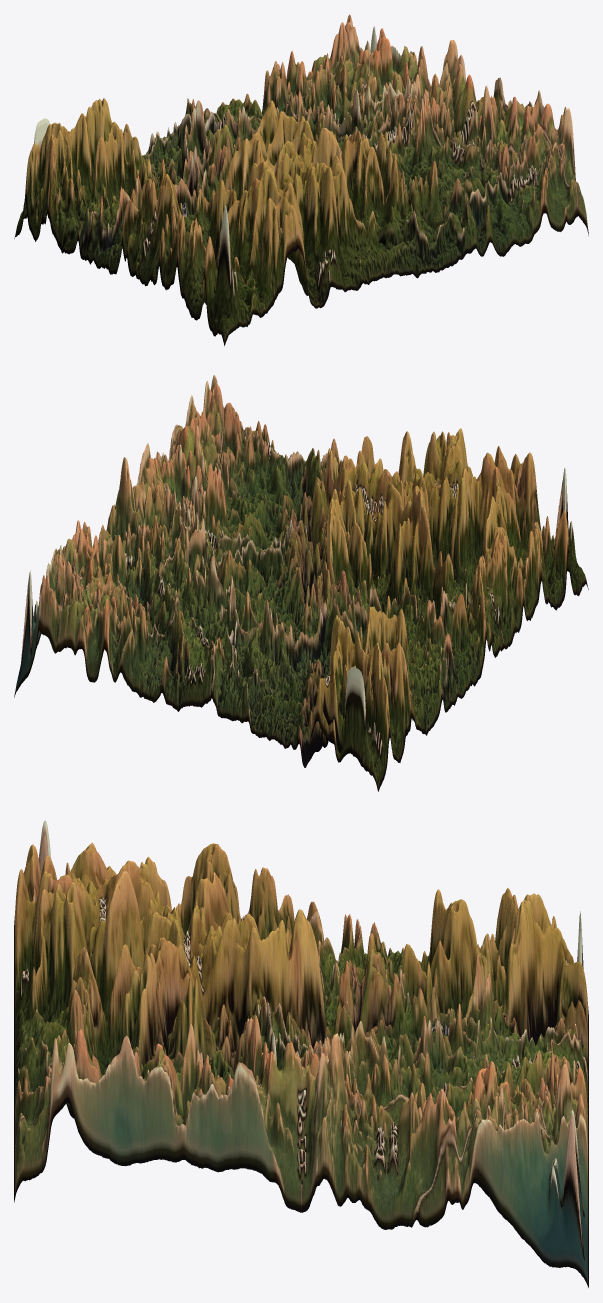
The model's file is terrain-lod1.glb.
The picture shows the model from 3 angles, top to bottom: view 1: azimuth 30°, elevation 25°; view 2: azimuth 150°, elevation 25°; view 3: azimuth 270°, elevation 25°; orthographic projection. The views are drawn at different scales.
Visible parts, largest first — view 1: geometry_0; view 2: geometry_0; view 3: geometry_0.
Part boxes in pixels (x1,y1,x2,y2): geometry_0: [14, 14, 588, 346]; geometry_0: [14, 375, 588, 791]; geometry_0: [14, 820, 588, 1287].
Size of the model in its own units: 2046 by 1080 by 2046.
1 material, 1 textured.
